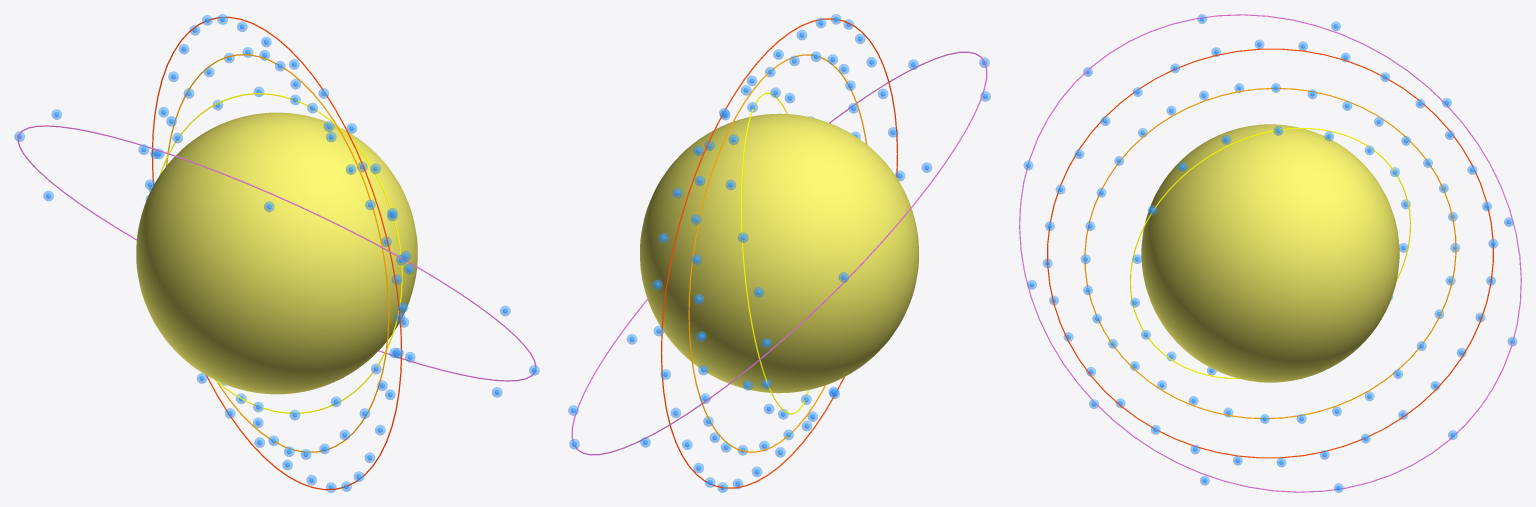
3 renders of one model, left to right at view 1: azimuth 30°, elevation 25°; view 2: azimuth 150°, elevation 25°; view 3: azimuth 270°, elevation 25°, orthographic. The views are drawn at different scales.
Visible parts, largest first — view 1: Rf, object 126, object 191, object 61, object 24; view 2: Rf, object 191, object 126, object 61, object 24; view 3: Rf, object 191, object 126, object 61, object 24.
Part boxes in pixels (left/top/right/bottom): Rf: left=136, top=112, right=417, bottom=394; object 126: left=151, top=16, right=402, bottom=490; object 191: left=17, top=125, right=536, bottom=381; object 61: left=166, top=54, right=389, bottom=452; object 24: left=160, top=93, right=402, bottom=413; Rf: left=640, top=113, right=918, bottom=393; object 191: left=571, top=51, right=987, bottom=455; object 126: left=661, top=18, right=897, bottom=488; object 61: left=688, top=54, right=867, bottom=452; object 24: left=740, top=92, right=808, bottom=414; Rf: left=1141, top=124, right=1399, bottom=382; object 191: left=1019, top=14, right=1521, bottom=492; object 126: left=1047, top=48, right=1493, bottom=458; object 61: left=1084, top=88, right=1456, bottom=418; object 24: left=1130, top=128, right=1410, bottom=378.
Bounding box in the file's own units: 6.56 × 7.34 × 8.12.
